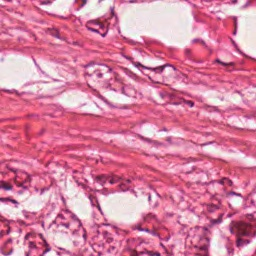mitosis: (213, 161, 223, 171)
